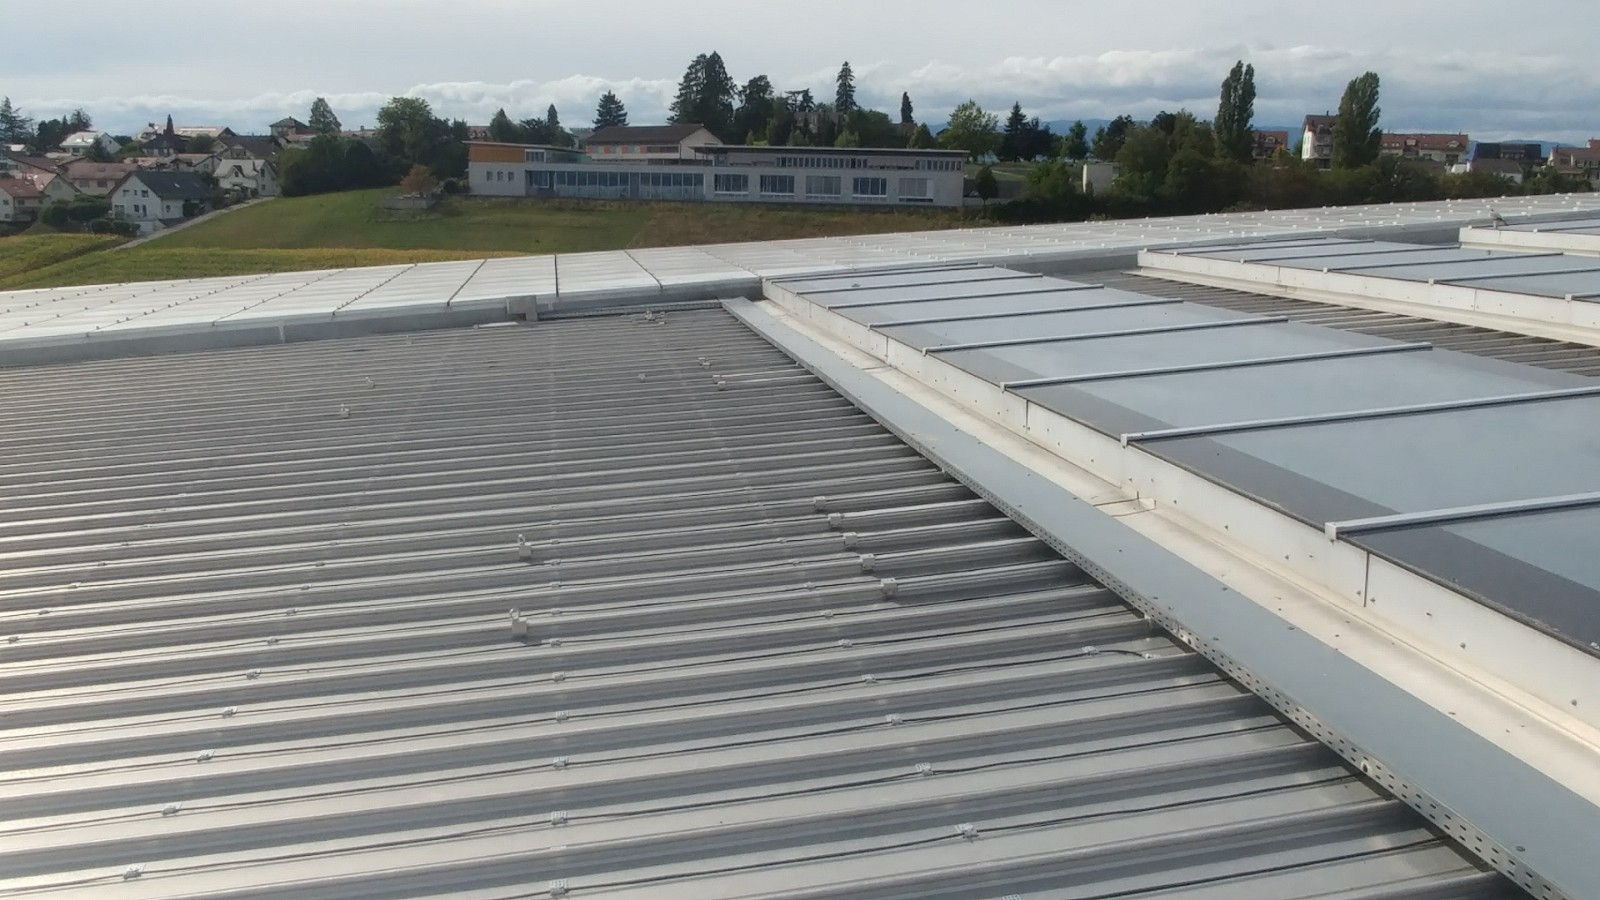Pigeon: (1488, 207, 1508, 231)
